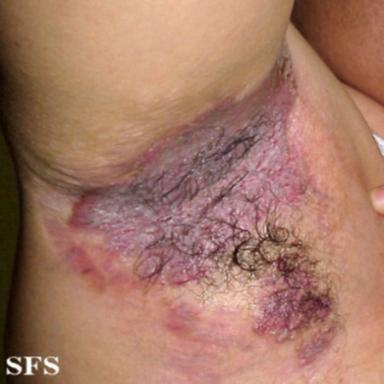Hailey-Hailey-Disease: (71, 56, 305, 285), (249, 271, 339, 365)
